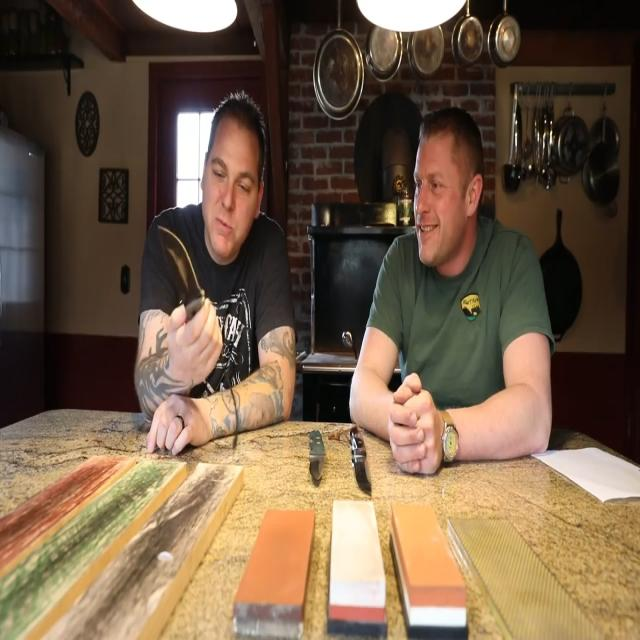knife: (155, 217, 208, 304), (346, 416, 380, 499), (307, 425, 325, 489)
